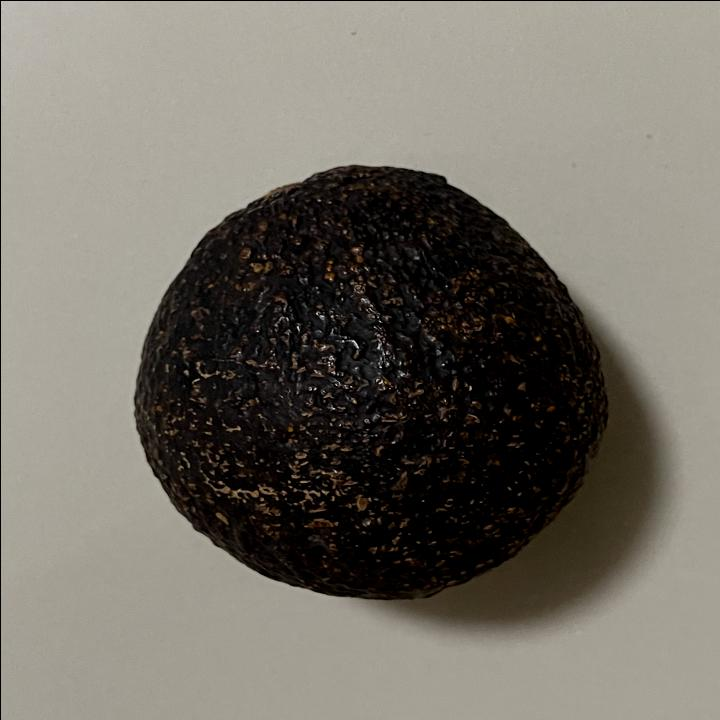Level3: (119, 152, 618, 608)
